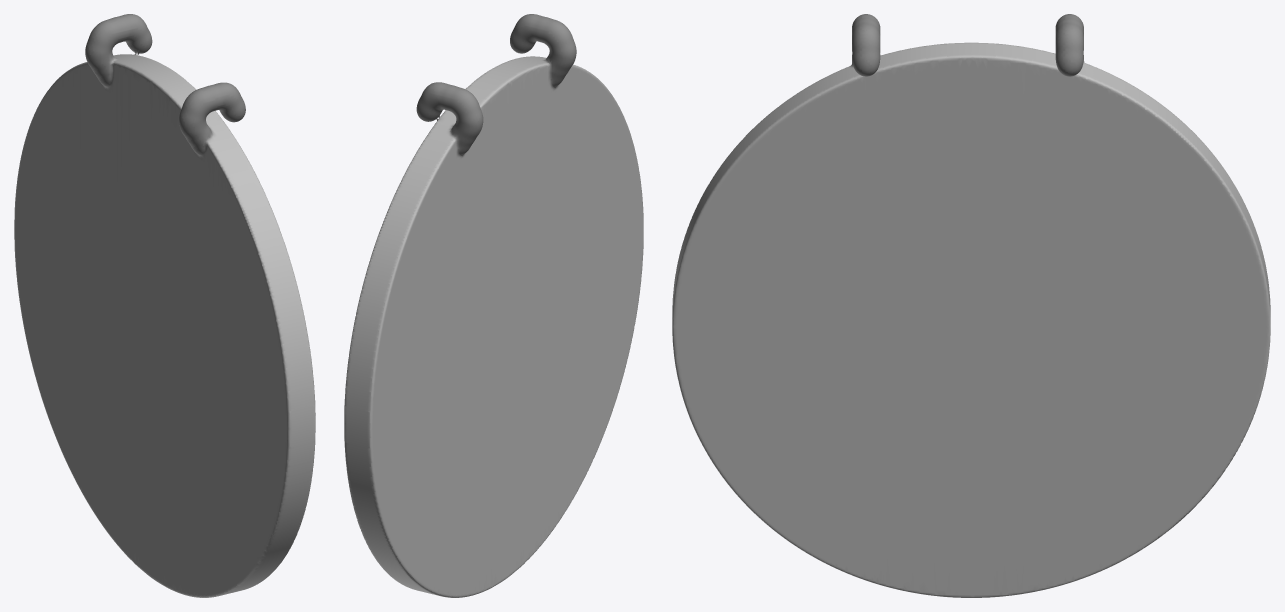
File: old-sign.glb
The picture shows the model from 3 angles, left to right: view 1: azimuth 30°, elevation 25°; view 2: azimuth 150°, elevation 25°; view 3: azimuth 270°, elevation 25°; orthographic projection. The views are drawn at different scales.
Parts seen in each view (by area): view 1: model_0; view 2: model_0; view 3: model_0.
Part boxes in pixels (box(x1,y1,x2,y2)): model_0: box(14, 14, 315, 597); model_0: box(344, 14, 643, 597); model_0: box(672, 14, 1270, 597).
Bounding box in the file's own units: 11.05 × 87.07 × 82.72.
Materials: 1 (1 with a texture image).
